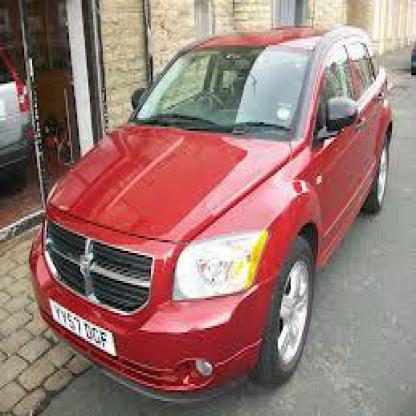Vehicle: (32, 28, 397, 401)
